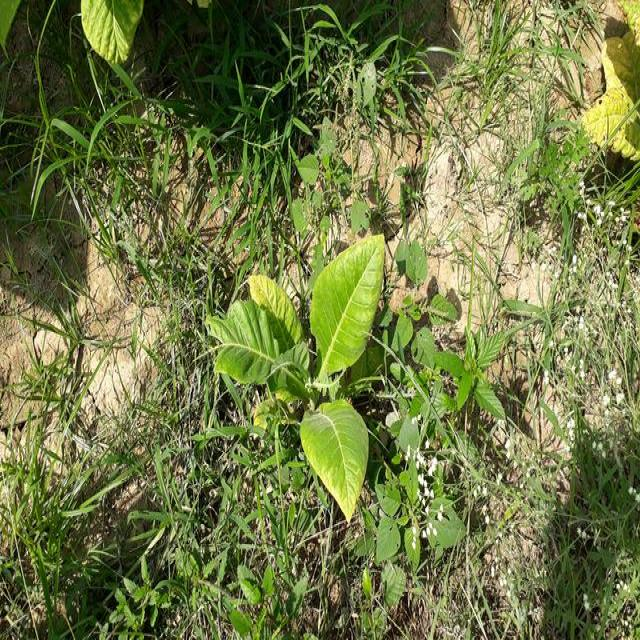crop: (218, 239, 386, 506), (581, 0, 640, 152), (67, 0, 152, 60)
